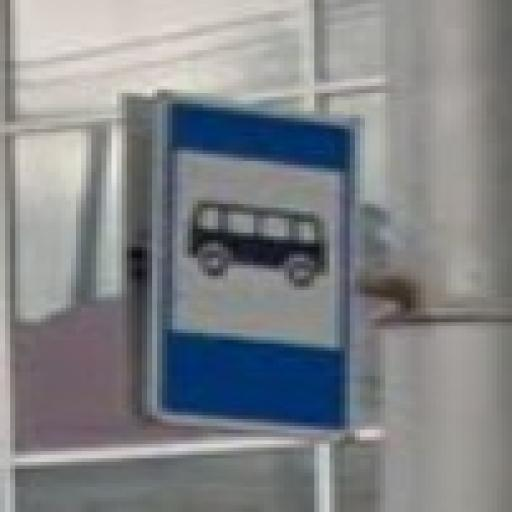traffic_sign: (148, 94, 361, 441)
